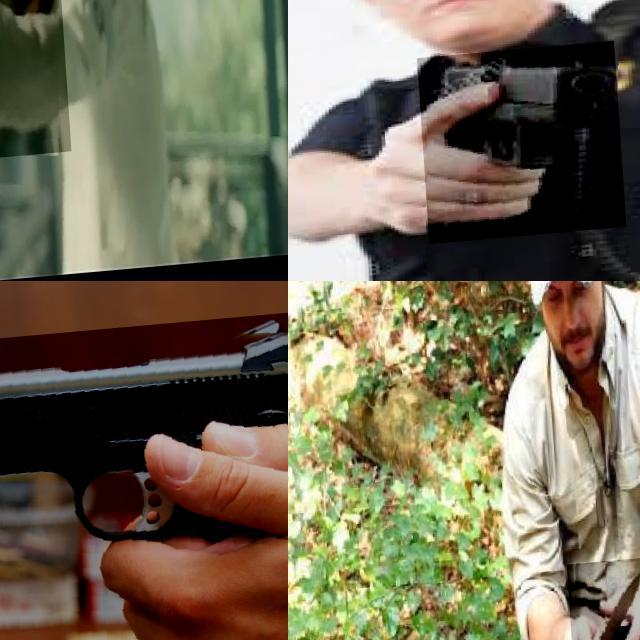-: (562, 565, 640, 640)
gun-knife-thesis - v11 Yolov5 augmented: (0, 314, 288, 640), (413, 48, 620, 248), (0, 0, 123, 173)
